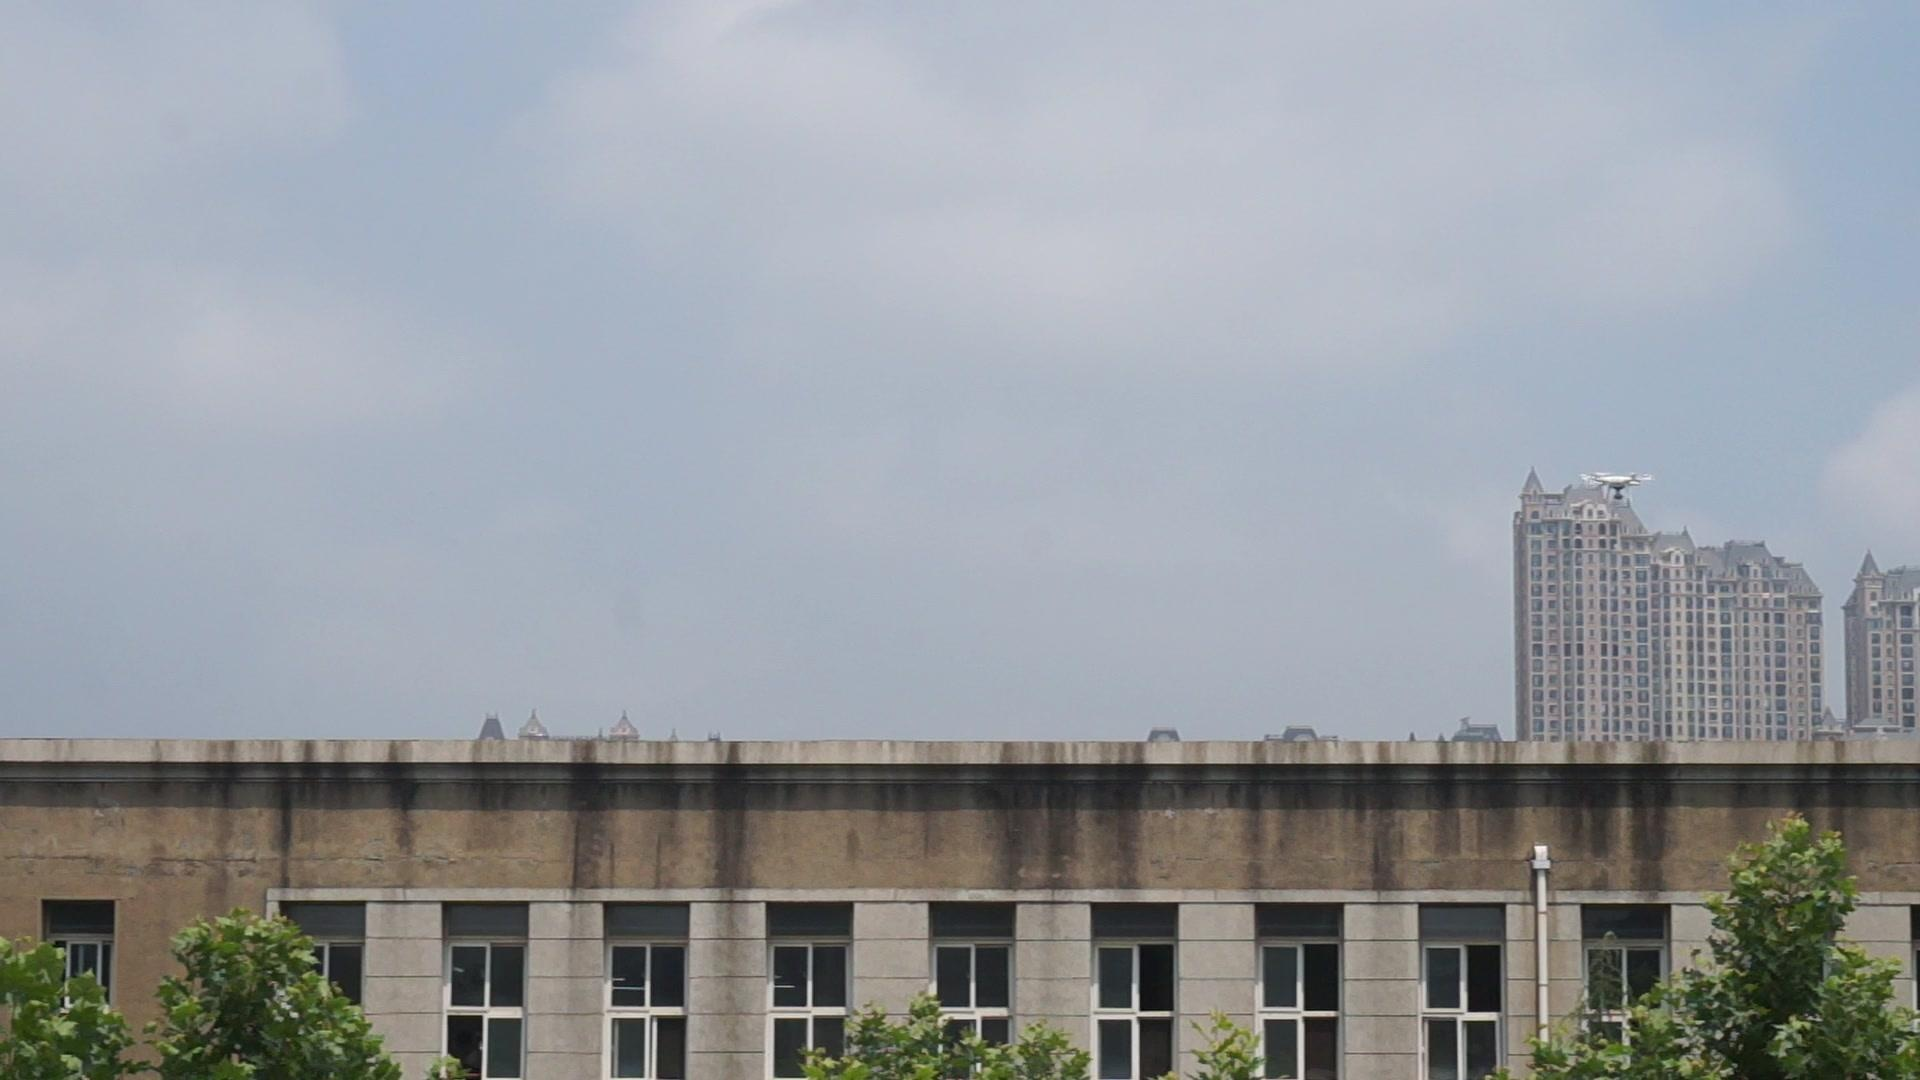UAV: (1580, 472, 1656, 506)
